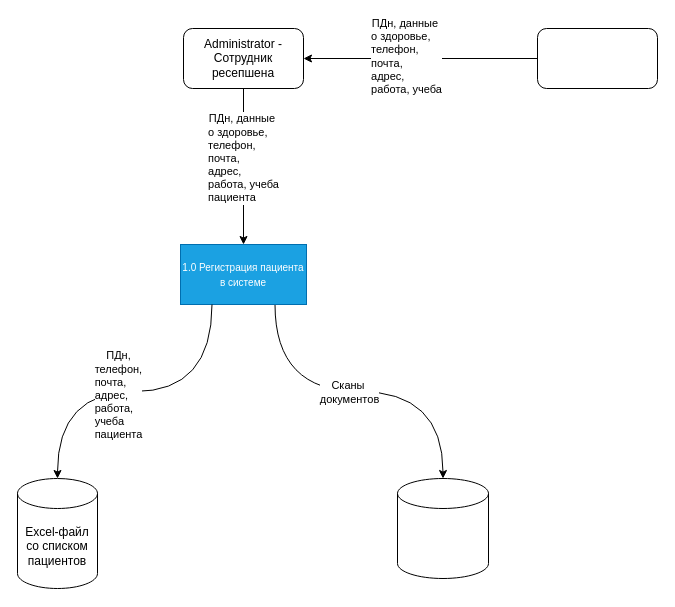
This 675x607 diagram has some shape labels left out. Each missing label, with the centre of its shape:
Patient - Пациент: pixel 597 58
Папка.Файлы пациента в разных форматах: pixel 442 528
